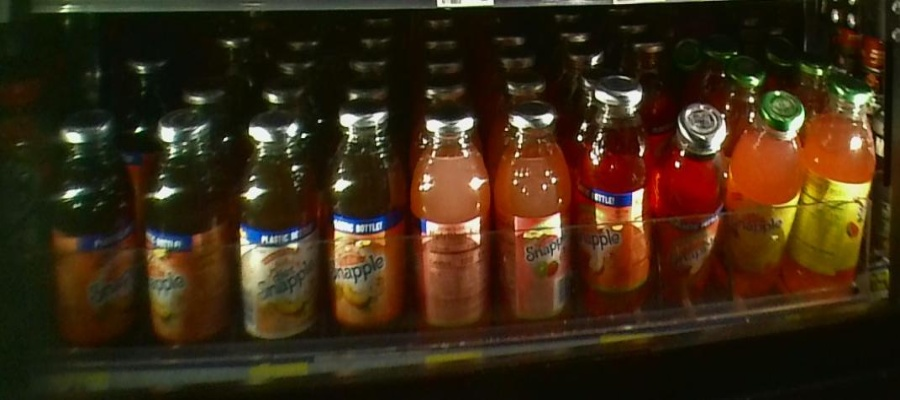bottle: (46, 107, 142, 364), (229, 108, 321, 358), (140, 108, 228, 363), (411, 99, 500, 348), (495, 96, 581, 342), (326, 102, 402, 354), (659, 97, 737, 321), (587, 81, 654, 329), (810, 77, 877, 303), (744, 90, 808, 319)
